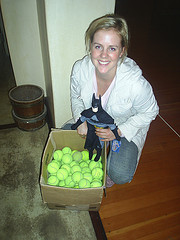tennis ball: (56, 167, 69, 181), (71, 171, 84, 184), (91, 167, 104, 180), (64, 175, 75, 188), (77, 178, 90, 189), (61, 154, 74, 165), (90, 178, 104, 188), (47, 162, 59, 173), (53, 150, 65, 161), (47, 176, 59, 186), (70, 165, 81, 174), (91, 153, 102, 162), (61, 146, 73, 154), (82, 172, 92, 181), (81, 151, 90, 161), (89, 161, 100, 169), (73, 151, 81, 162), (78, 161, 89, 168)
